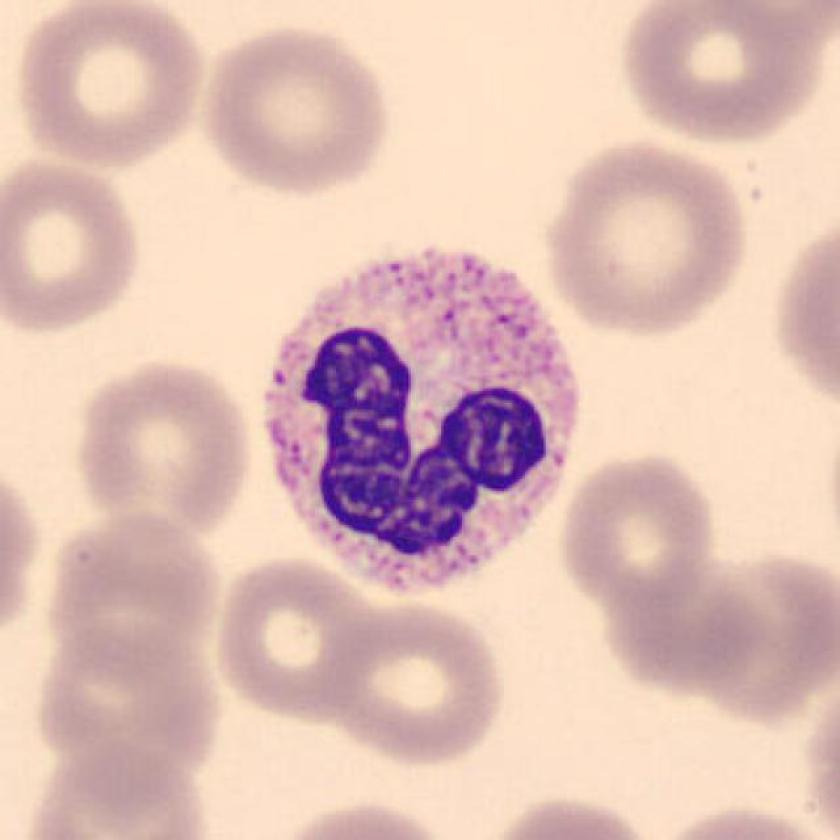neutrophil: (269, 251, 581, 592)
